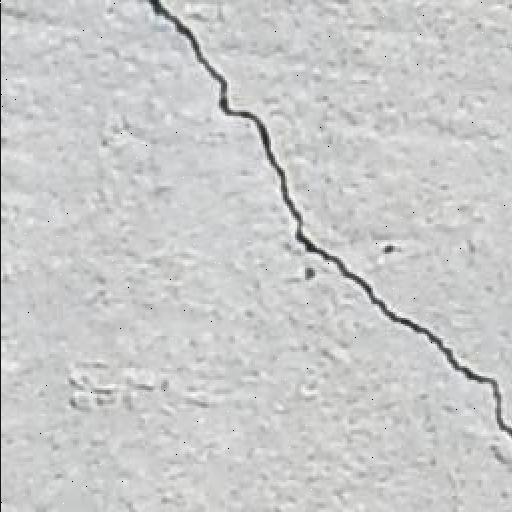spalling: (139, 3, 512, 456)
